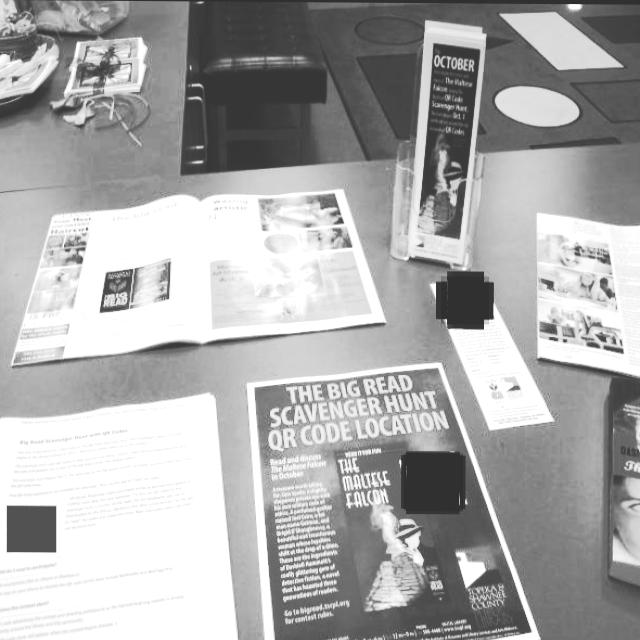qr_code: (404, 452, 463, 511), (441, 276, 489, 324), (6, 506, 56, 552)
